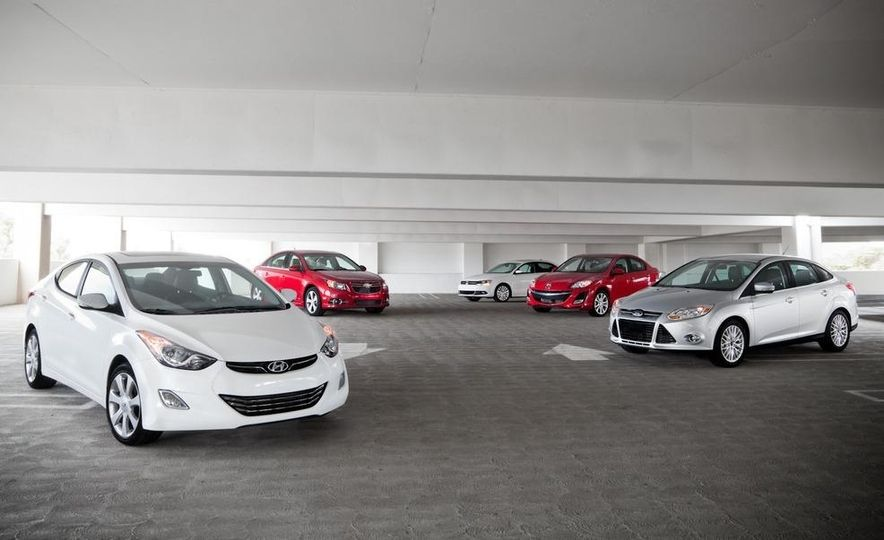car: (24, 250, 350, 445), (607, 255, 860, 369), (250, 250, 390, 313), (527, 253, 663, 314), (457, 262, 559, 302)
